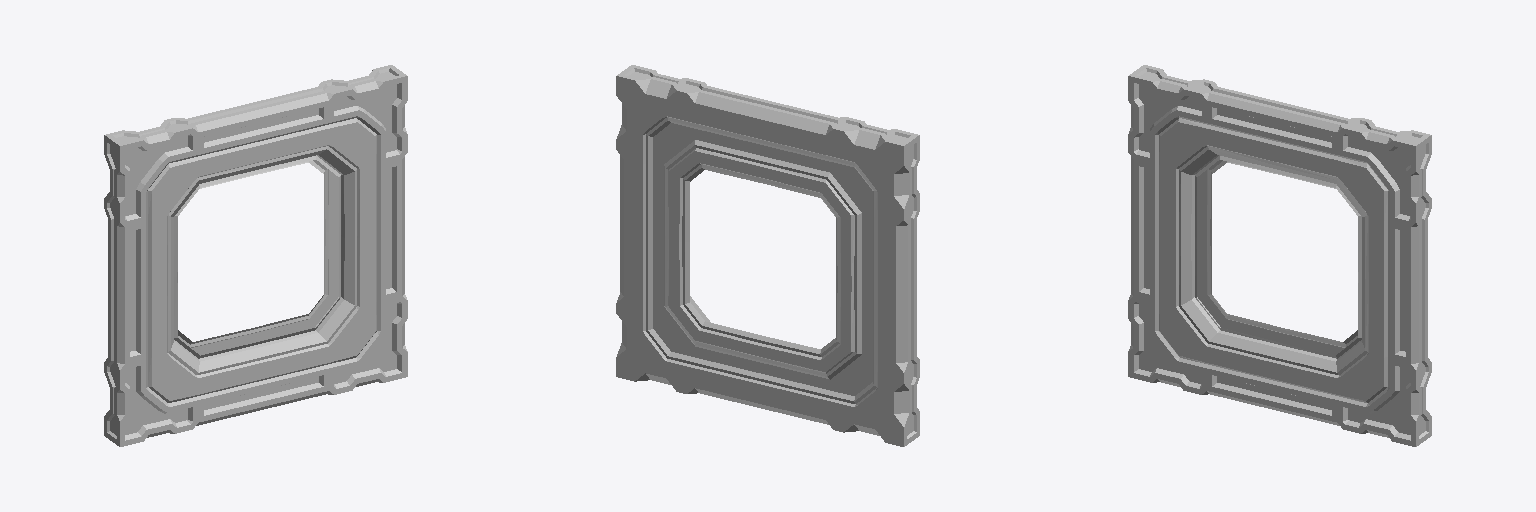
The model's file is window.obj.
The picture shows the model from 3 angles: view 1: azimuth 30°, elevation 25°; view 2: azimuth 150°, elevation 25°; view 3: azimuth 330°, elevation 25°; orthographic projection.
Visible parts, largest first — view 1: defaultMaterial.001; view 2: defaultMaterial.001; view 3: defaultMaterial.001.
Part boxes in pixels (bbox=[...]): defaultMaterial.001: bbox=[104, 65, 407, 446]; defaultMaterial.001: bbox=[616, 65, 919, 446]; defaultMaterial.001: bbox=[1128, 65, 1431, 446].
Size of the model in its own units: 1 by 1 by 0.0935.